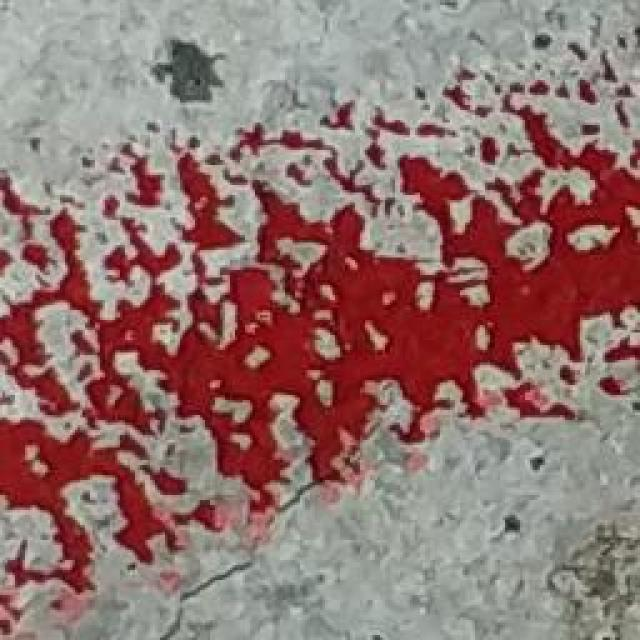Diagonal: (123, 379, 410, 640)
